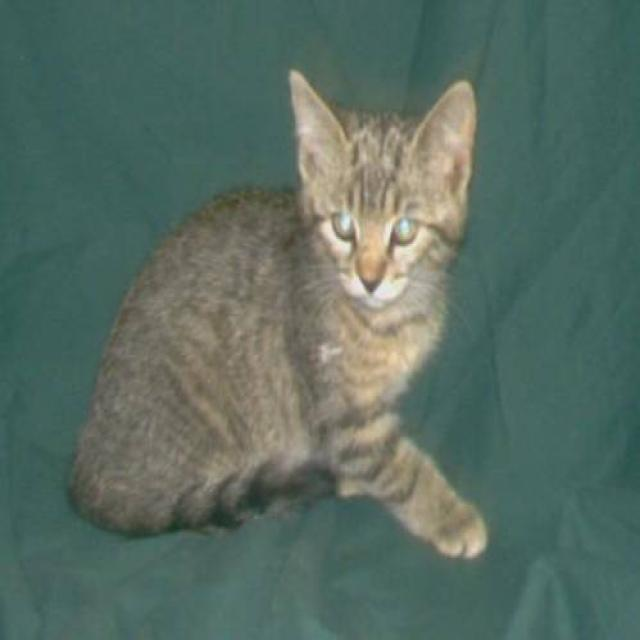cat: (66, 67, 488, 560)
